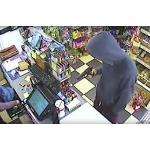Pistol: (76, 66, 96, 82)
